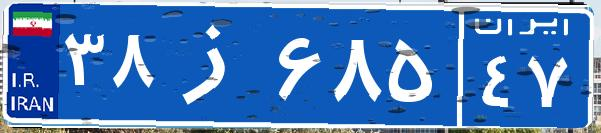3: (57, 26, 110, 107)
4: (475, 38, 525, 113)
5: (385, 28, 445, 110)
6: (273, 28, 330, 110)
7: (525, 38, 570, 115)
8: (330, 28, 385, 110), (110, 28, 158, 105)
ز: (158, 15, 273, 115)
